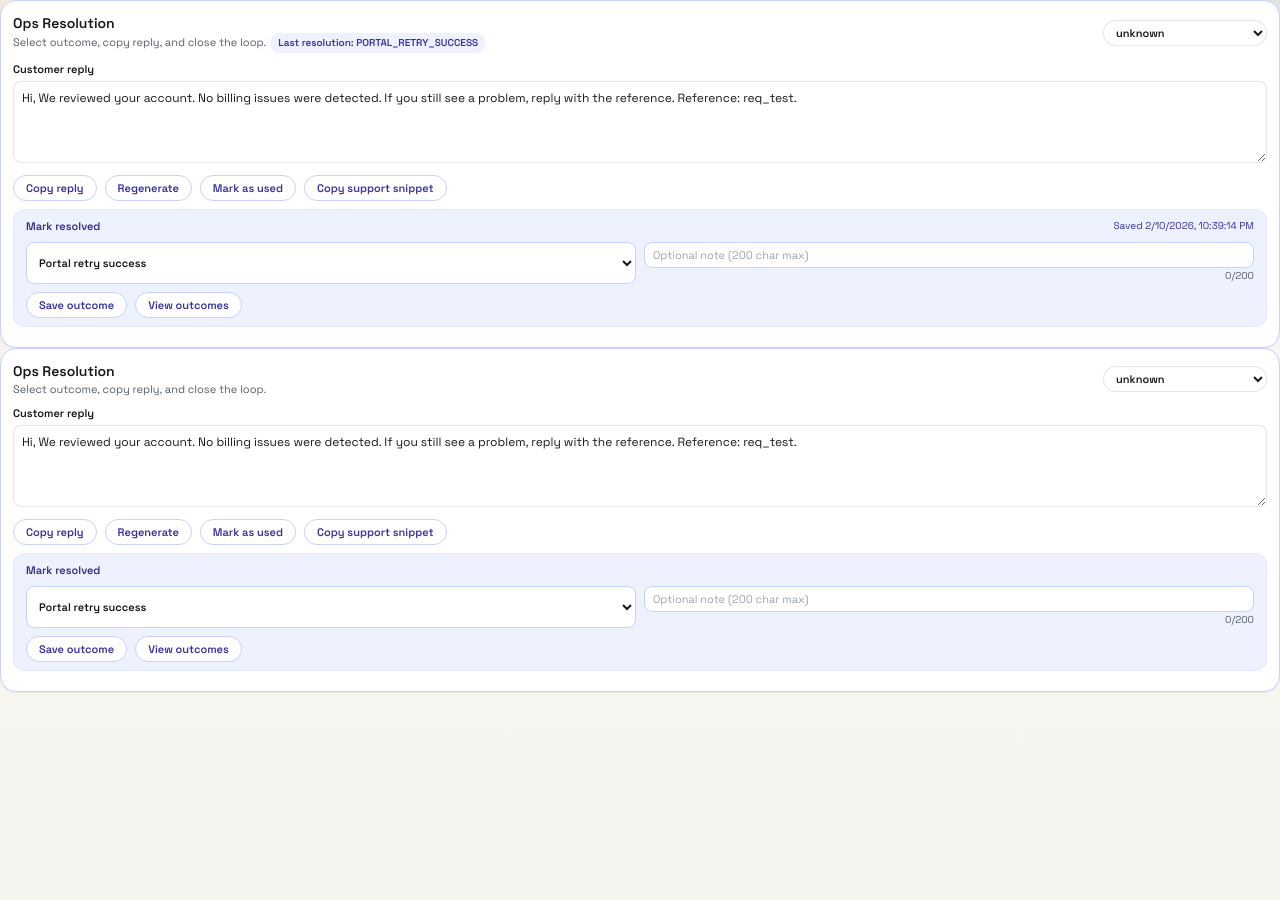
ResolutionCard outcome flow › shows error on failure
Click the 2nd button "Save outcome". click: [77, 649]
box: [26,636,127,662]
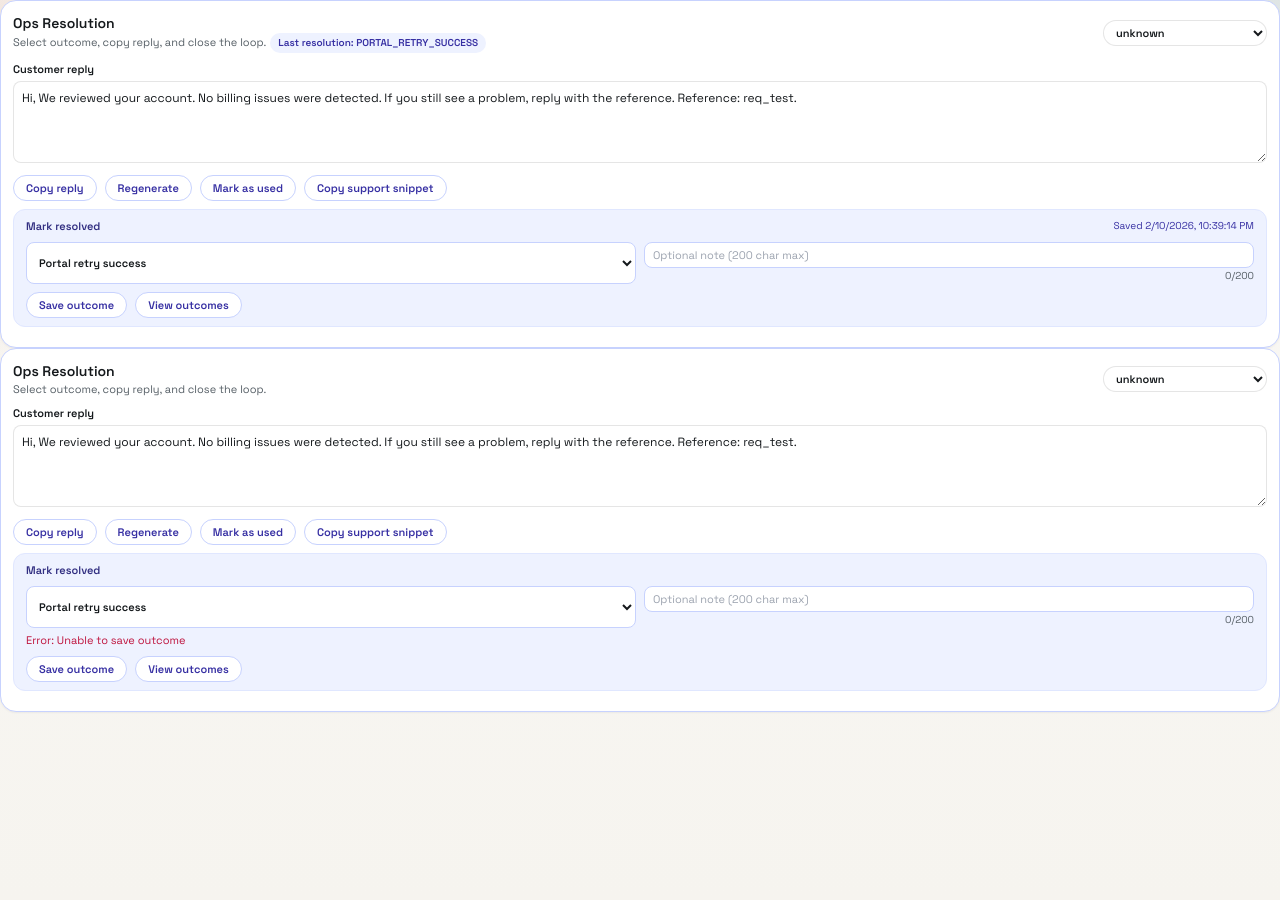
Check: the text "Unable to save outcome" is shown, box [57,633,186,647]
